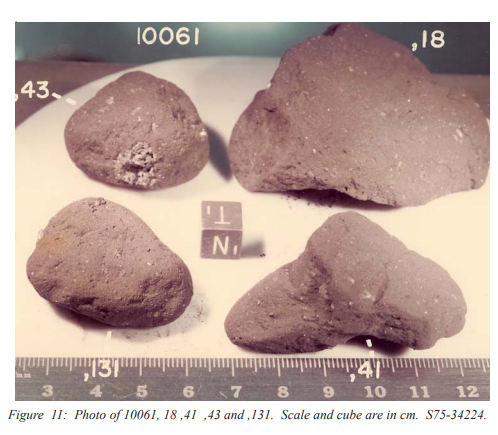Breccia: (239, 21, 487, 203), (252, 226, 466, 349), (22, 202, 192, 335), (64, 65, 205, 201)
